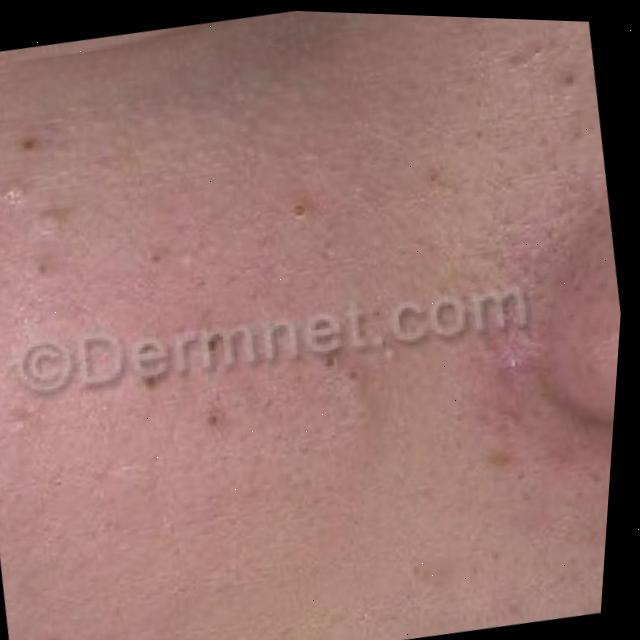Acne: (433, 218, 557, 383), (0, 234, 66, 394)
